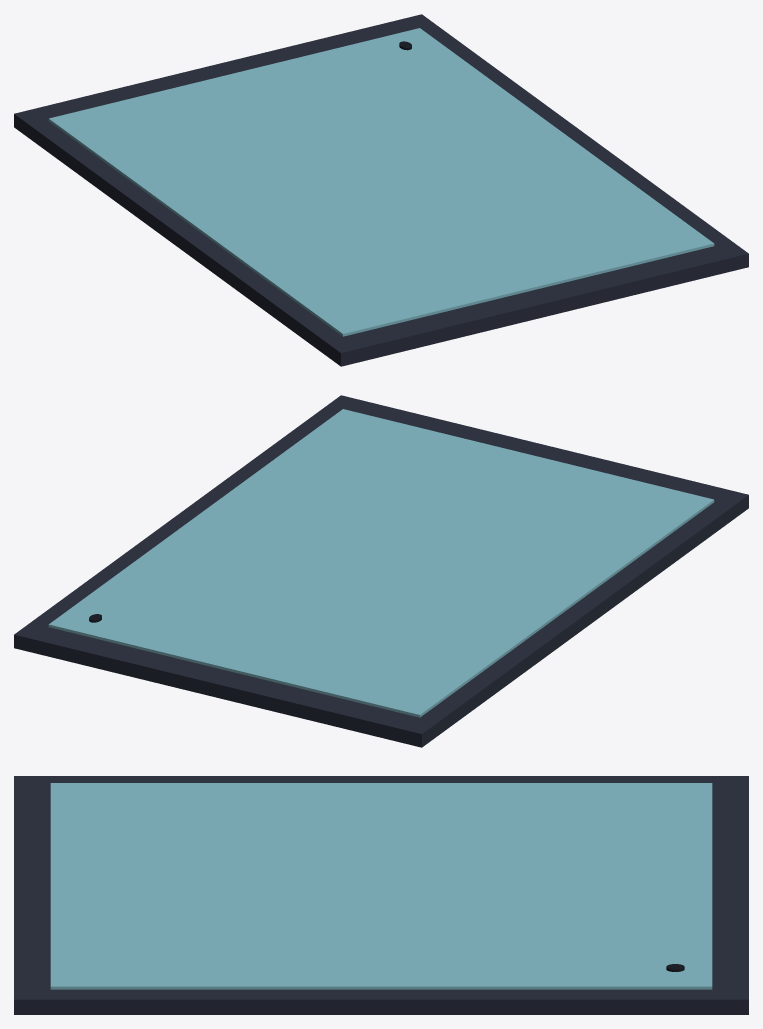
Rendered from tablet.glb.
The picture shows the model from 3 angles, top to bottom: view 1: azimuth 30°, elevation 25°; view 2: azimuth 150°, elevation 25°; view 3: azimuth 270°, elevation 25°; orthographic projection. The views are drawn at different scales.
Visible parts, largest first — view 1: tablet; view 2: tablet; view 3: tablet.
Boxes of the visible parts, x1,y1,x2,y2 form: tablet: [14, 14, 748, 366]; tablet: [14, 395, 748, 747]; tablet: [14, 776, 748, 1014].
Size of the model in its own units: 18 by 0.8 by 25.
